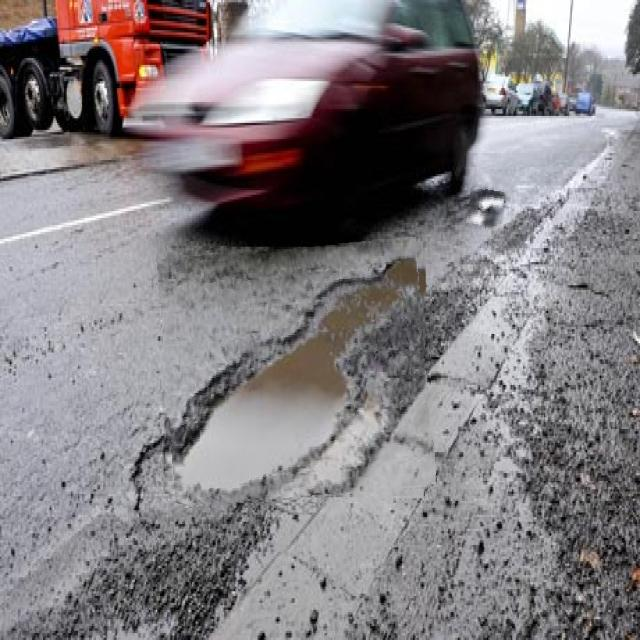Pothole: (162, 243, 432, 503), (468, 170, 506, 233)
